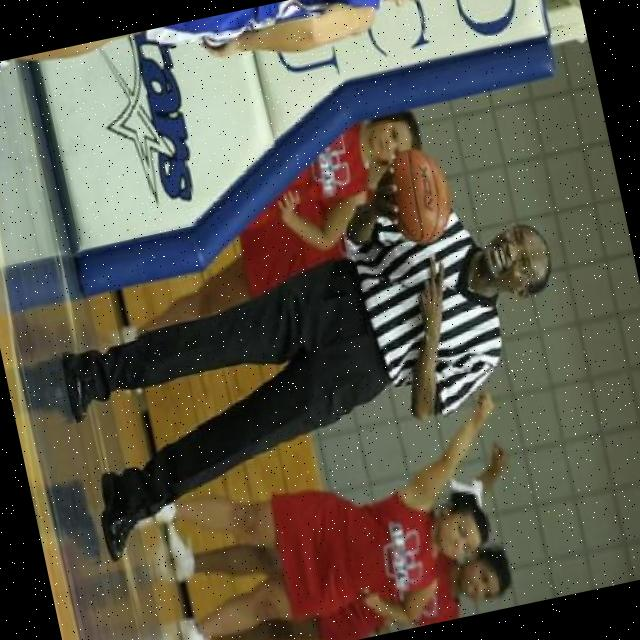ball: (382, 142, 458, 248)
